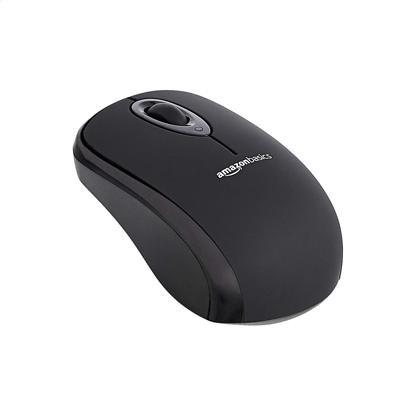not trash: (73, 89, 342, 323)
